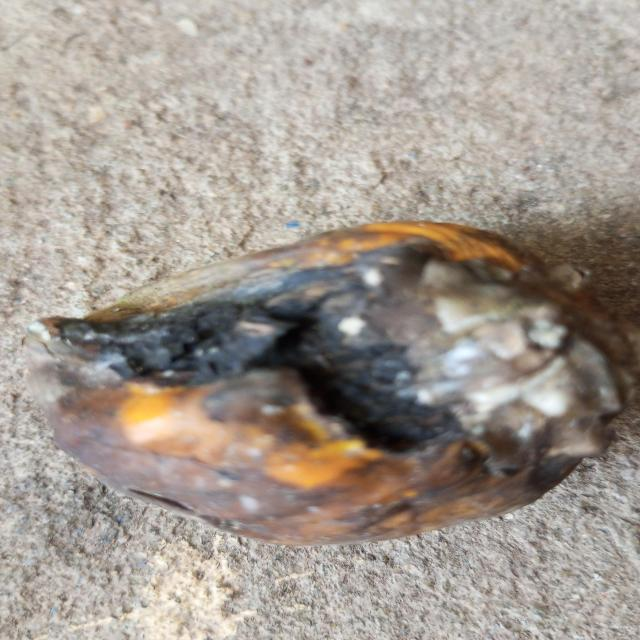damaged: (26, 222, 633, 550)
